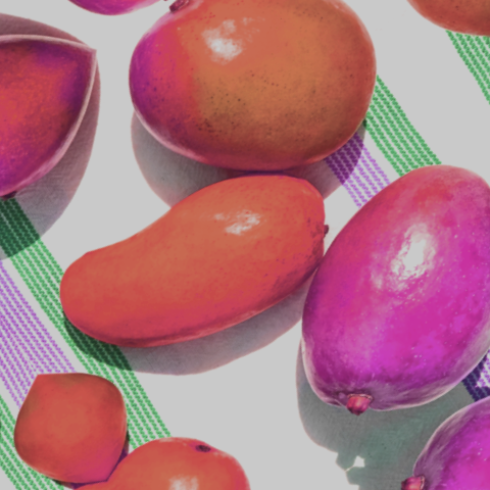mango: (21, 106, 386, 426), (195, 121, 490, 487), (54, 0, 434, 266)
